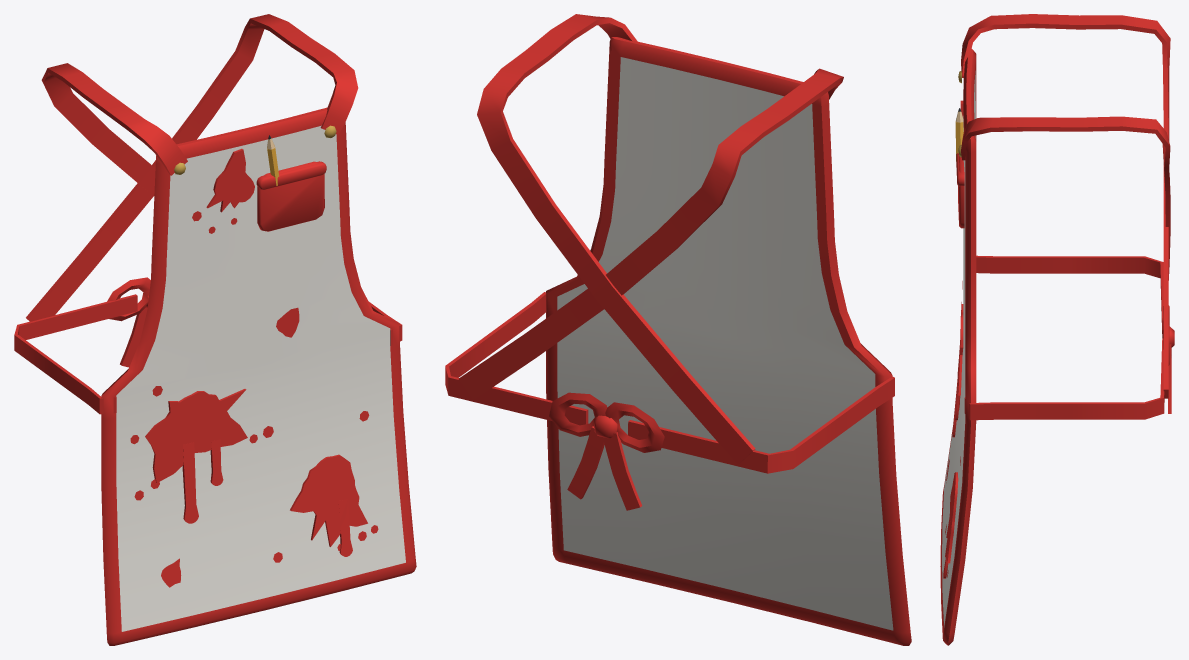
The model's file is Cosmetic_Apron_Splash.fbx.
3 renders of one model, left to right at view 1: azimuth 30°, elevation 25°; view 2: azimuth 150°, elevation 25°; view 3: azimuth 270°, elevation 25°, orthographic. The views are drawn at different scales.
Visible parts, largest first — view 1: Apron, Trim; view 2: Apron, Trim; view 3: Trim, Apron.
Boxes of the visible parts, x1,y1,x2,y2 form: Apron: [116, 125, 405, 631]; Trim: [14, 14, 416, 645]; Apron: [557, 57, 893, 630]; Trim: [445, 14, 911, 645]; Trim: [940, 14, 1174, 645]; Apron: [942, 71, 975, 627].
Bounding box in the file's own units: 205 × 315 × 134.
